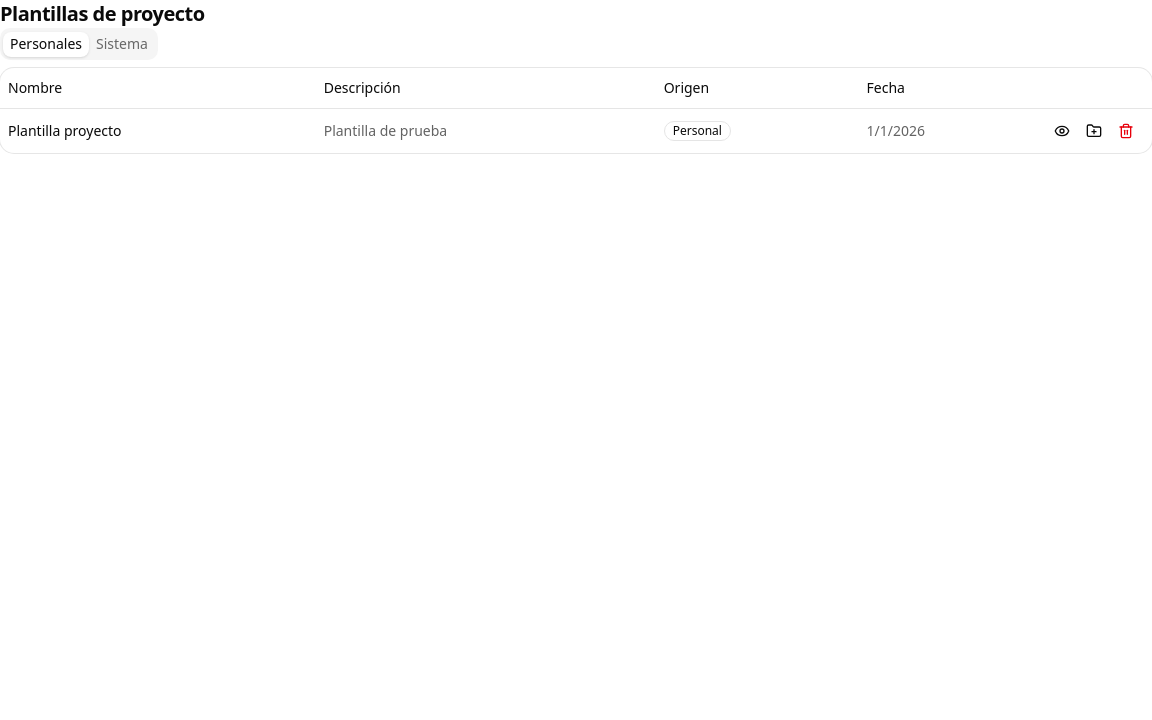
Scenario: PlantillasProyectoPage › la vista previa dibuja el árbol del snapshot
The width and height of the screenshot is (1152, 720).
Click the tab "Sistema": (122, 44) left=89, top=32, right=155, bottom=56
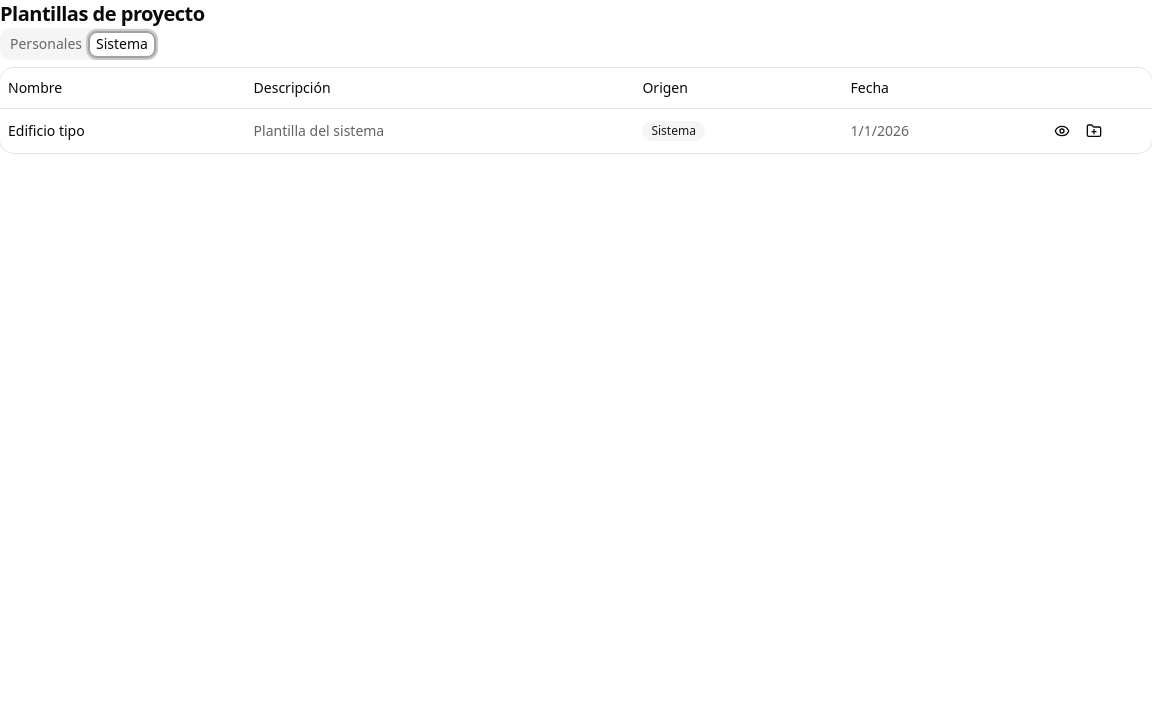
Click the button named "Ver plantilla": (1062, 130) left=1048, top=116, right=1076, bottom=144
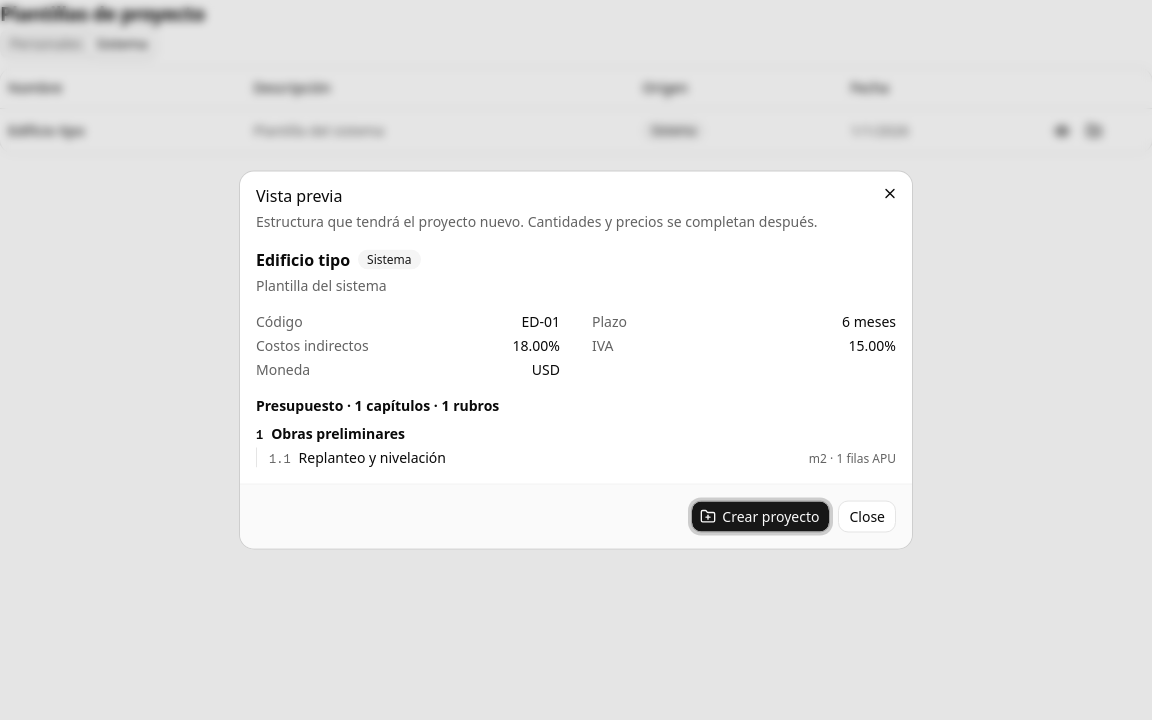
Check: the text "Obras preliminares" is shown, box left=271, top=424, right=405, bottom=442
Check: the text "Replanteo y nivelación" is shown, box left=299, top=448, right=446, bottom=466
Check: the heading "Presupuesto · 1 capítulos · 1 rubros" is shown, box left=256, top=396, right=499, bottom=414
